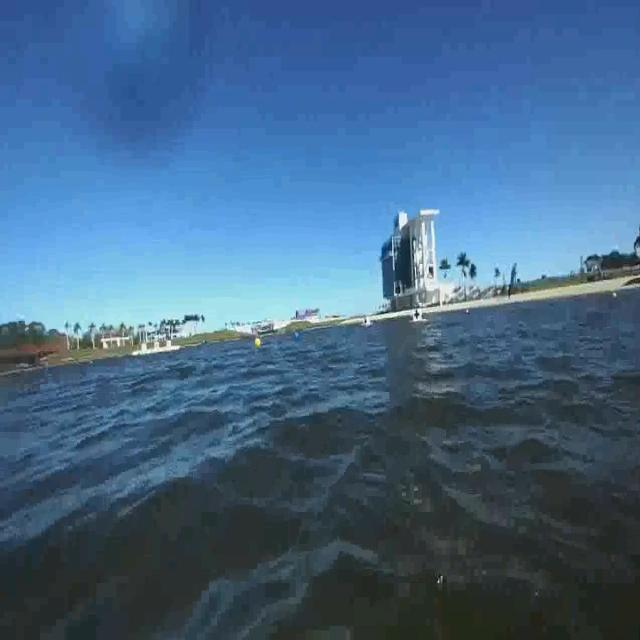blue-buoy: (293, 331, 299, 340)
yellow-buoy: (254, 338, 261, 350)
